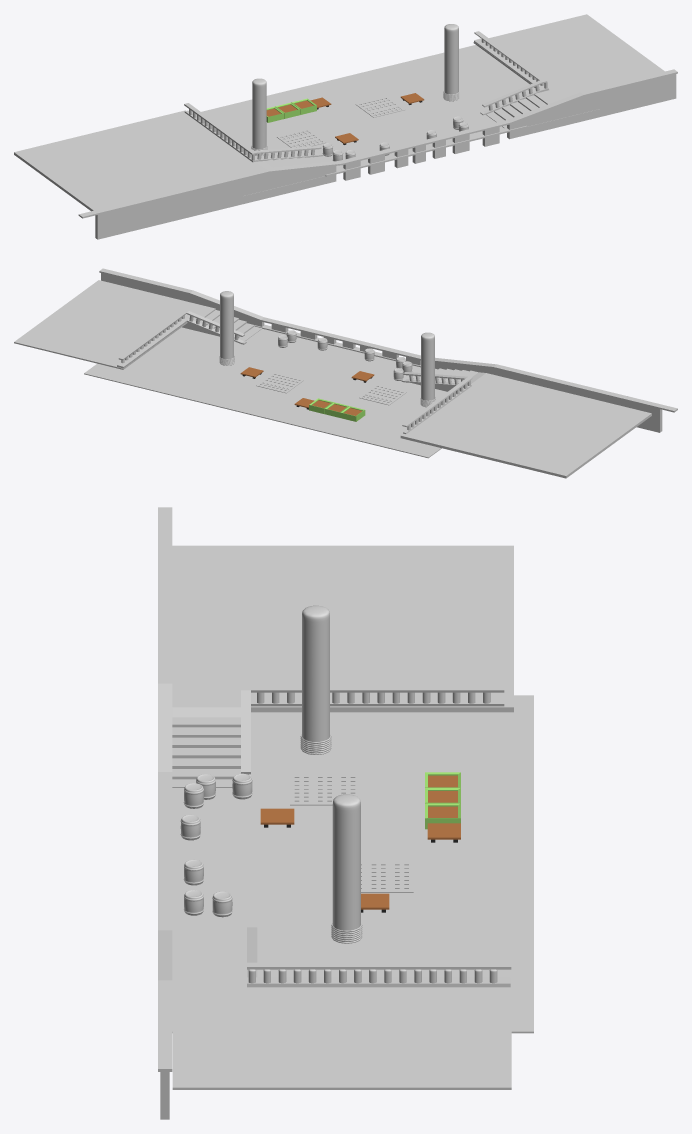
The model's file is changj01.fbx.
The picture shows the model from 3 angles, top to bottom: view 1: azimuth 30°, elevation 25°; view 2: azimuth 150°, elevation 25°; view 3: azimuth 270°, elevation 25°; orthographic projection. The views are drawn at different scales.
Visible parts, largest first — view 1: 平面, 平面.004, 平面.003, 立方体.004, 立方体.007, 平面.001, 平面.005, 平面.006, 柱体, 柱体.001, 平面.002, 平面.007 (+1 smaller); view 2: 平面, 平面.004, 平面.003, 平面.001, 立方体.004, 平面.005, 立方体.007, 平面.006, 柱体.001, 柱体, 平面.008, 平面.007 (+1 smaller); view 3: 平面, 平面.004, 平面.003, 平面.001, 平面.005, 柱体, 柱体.001, 平面.006, 立方体.017, 平面.008, 平面.007, 立方体.018.
Boxes of the visible parts, box(x1,y1,x2,y2) form: 平面: box(196, 45, 599, 196); 平面.004: box(14, 110, 336, 211); 平面.003: box(473, 14, 664, 127); 立方体.004: box(95, 166, 336, 239); 立方体.007: box(507, 74, 676, 139); 平面.001: box(78, 69, 677, 218); 平面.005: box(474, 31, 548, 115); 平面.006: box(184, 103, 323, 162); 柱体: box(444, 24, 458, 100); 柱体.001: box(252, 78, 266, 154); 平面.002: box(325, 125, 527, 176); 平面.007: box(355, 96, 404, 117); 平面: box(84, 327, 452, 458); 平面.004: box(400, 368, 651, 478); 平面.003: box(14, 280, 262, 369); 平面.001: box(99, 268, 677, 412); 立方体.004: box(435, 362, 662, 432); 平面.005: box(117, 310, 246, 368); 立方体.007: box(101, 273, 264, 326); 平面.006: box(401, 372, 472, 433); 柱体.001: box(421, 332, 434, 406); 柱体: box(220, 291, 233, 364); 平面.008: box(359, 385, 406, 405); 平面.007: box(256, 373, 303, 393); 平面: box(172, 695, 533, 1033); 平面.004: box(172, 545, 513, 787); 平面.003: box(172, 944, 511, 1089); 平面.001: box(158, 507, 172, 1071); 平面.005: box(247, 927, 511, 987); 柱体: box(332, 794, 360, 941); 柱体.001: box(302, 605, 329, 753); 平面.006: box(241, 686, 504, 775); 立方体.017: box(248, 969, 497, 983); 平面.008: box(290, 775, 359, 805); 平面.007: box(361, 862, 413, 892); 立方体.018: box(257, 692, 490, 703).
Bounding box in the file's own units: 3550 × 466 × 1005.
